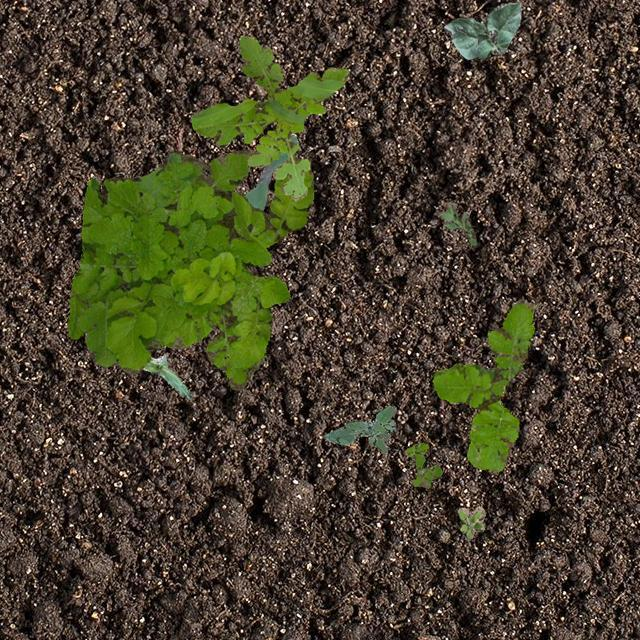crop: (442, 1, 520, 58), (243, 133, 297, 210), (142, 354, 190, 398)
weed: (66, 148, 312, 388), (190, 35, 348, 198), (432, 298, 534, 472), (322, 404, 396, 452), (404, 442, 442, 488), (438, 202, 476, 244), (456, 504, 484, 538)
